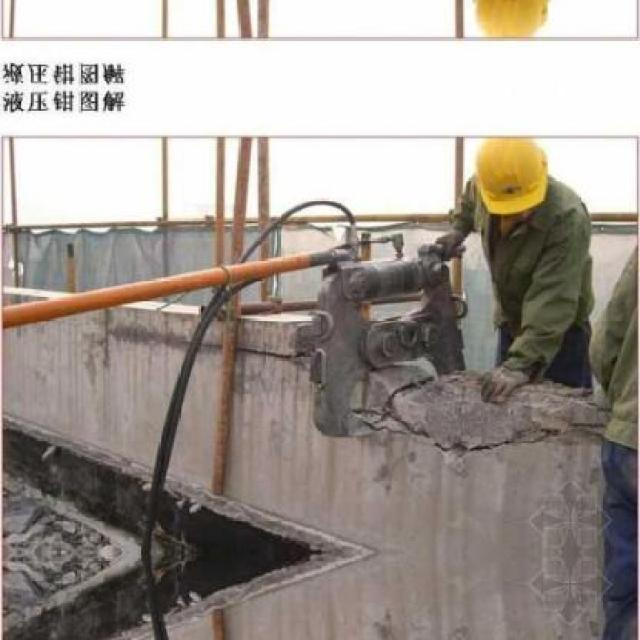helmet: (464, 134, 551, 226), (463, 0, 552, 38)
